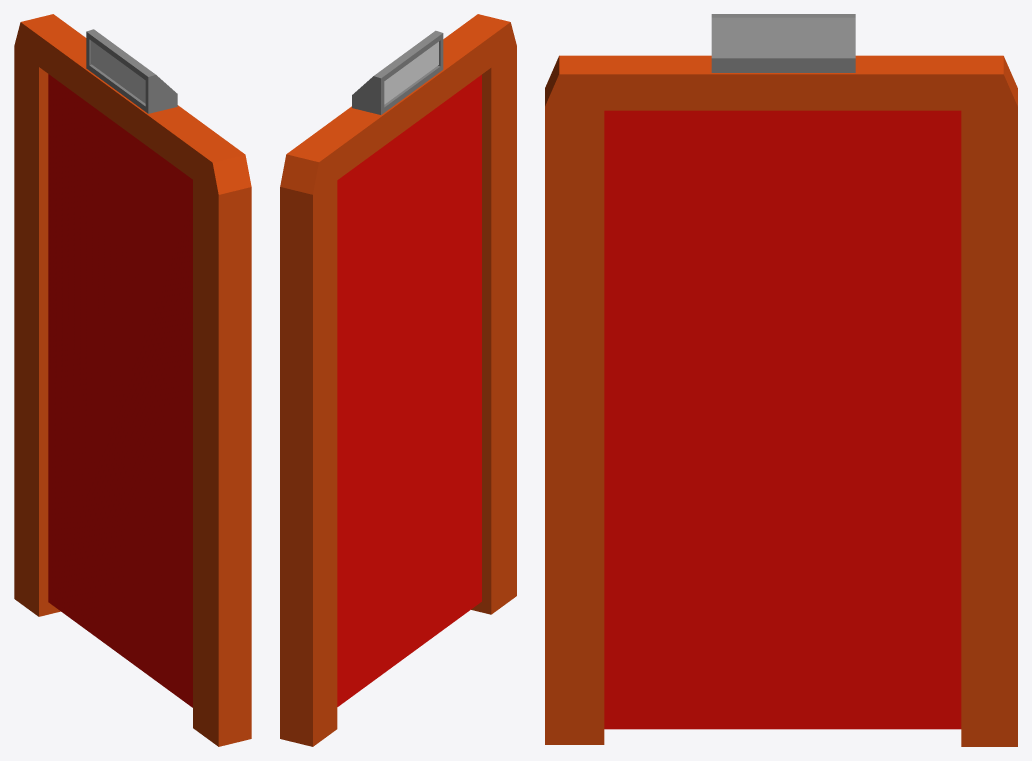
Rendered from DoorLeft.fbx.
3 renders of one model, left to right at view 1: azimuth 30°, elevation 25°; view 2: azimuth 150°, elevation 25°; view 3: azimuth 270°, elevation 25°, orthographic. The views are drawn at different scales.
Parts seen in each view (by area): view 1: Cube.005, Cube.006, Cube.007, Cube.008; view 2: Cube.005, Cube.006, Cube.007, Cube.008; view 3: Cube.005, Cube.006, Cube.007.
Part boxes in pixels (left/top/right/bottom): Cube.005: left=48, top=74, right=192, bottom=707; Cube.006: left=14, top=14, right=251, bottom=746; Cube.007: left=86, top=29, right=177, bottom=113; Cube.008: left=91, top=40, right=145, bottom=103; Cube.005: left=337, top=74, right=481, bottom=706; Cube.006: left=280, top=14, right=516, bottom=746; Cube.007: left=352, top=30, right=443, bottom=114; Cube.008: left=384, top=41, right=438, bottom=104; Cube.005: left=604, top=110, right=961, bottom=729; Cube.006: left=545, top=55, right=1017, bottom=746; Cube.007: left=711, top=14, right=855, bottom=72.
Bounding box in the file's own units: 19.23 × 346 × 207.
